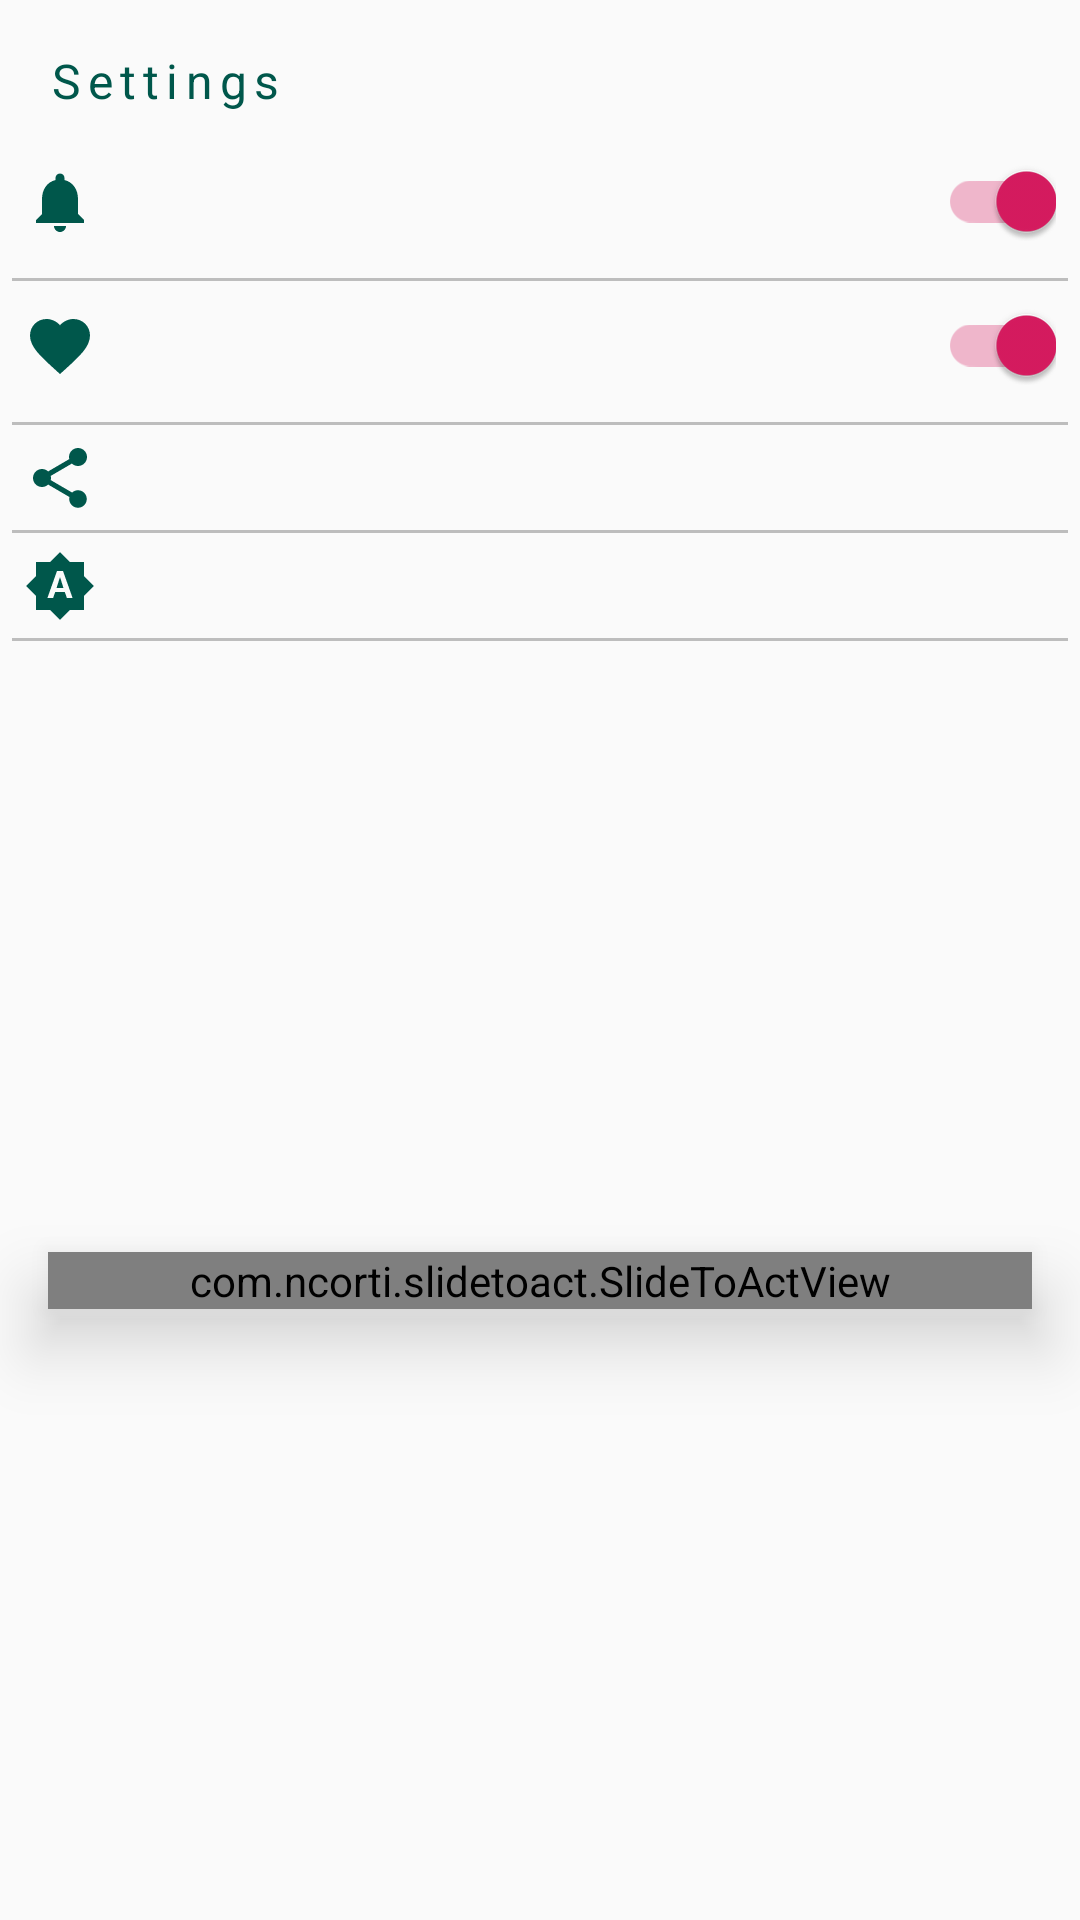

Icons on this 1080px×1920px Android screen, each with the point to tap as (x=x, y=y):
brightness auto: (x=60, y=586)
share: (x=60, y=478)
